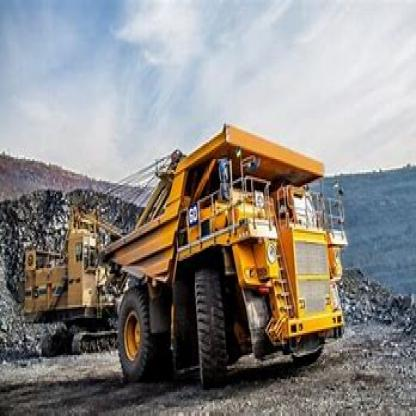dump_truck: (97, 111, 342, 397)
